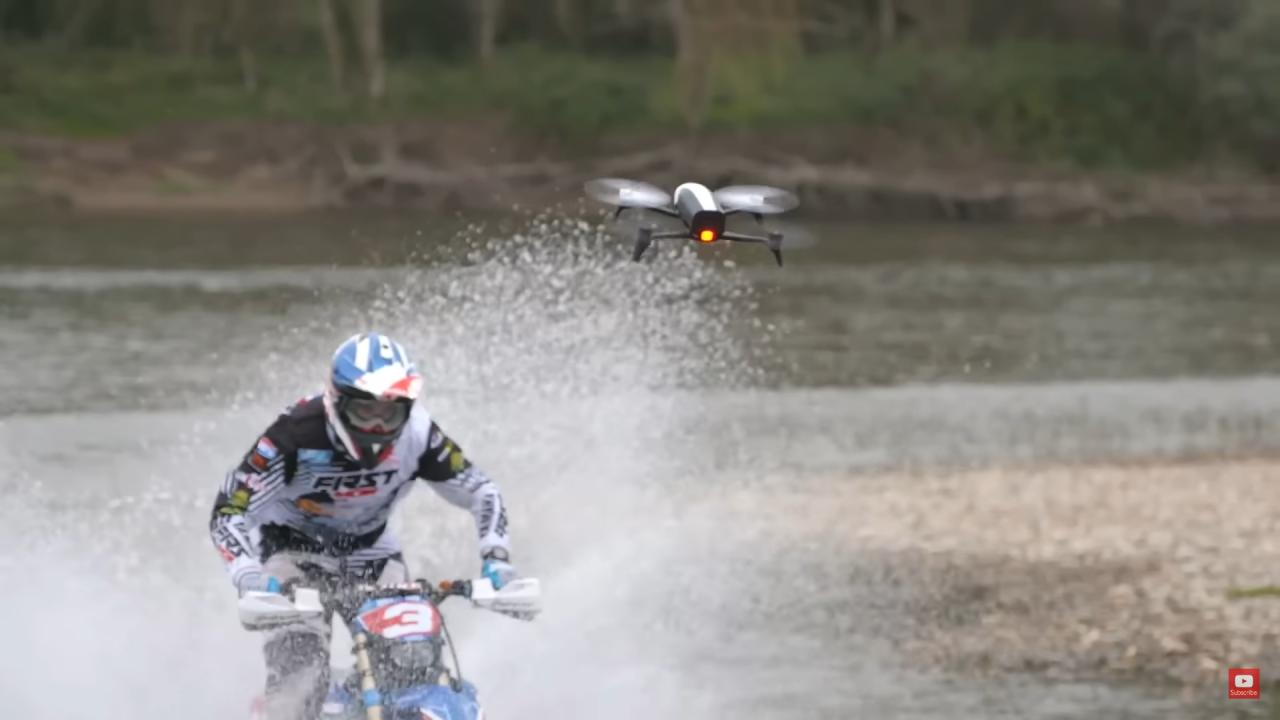Drone: (574, 162, 814, 278)
